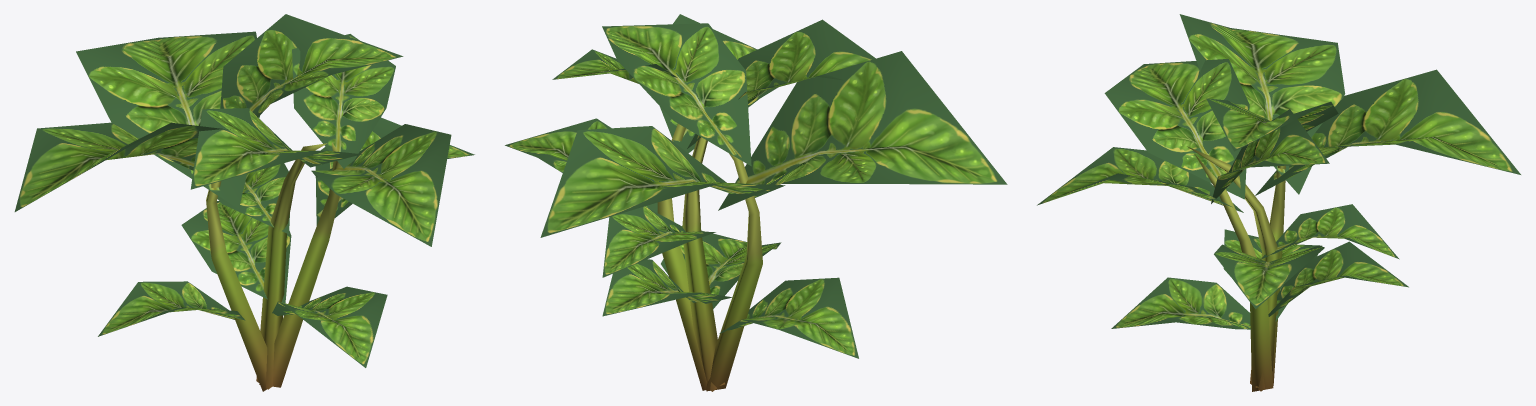
The model's file is plant_potato_S2.gltf.
The picture shows the model from 3 angles, left to right: view 1: azimuth 30°, elevation 25°; view 2: azimuth 150°, elevation 25°; view 3: azimuth 270°, elevation 25°; orthographic projection. The views are drawn at different scales.
Visible parts, largest first — view 1: plant_potato_S2; view 2: plant_potato_S2; view 3: plant_potato_S2.
Part boxes in pixels (<box>): plant_potato_S2: <box>14,14,474,391</box>; plant_potato_S2: <box>505,14,1007,391</box>; plant_potato_S2: <box>1037,14,1520,391</box>.
Size of the model in its own units: 0.7333 by 0.4909 by 0.6906.
Materials: 1 (1 with a texture image).
